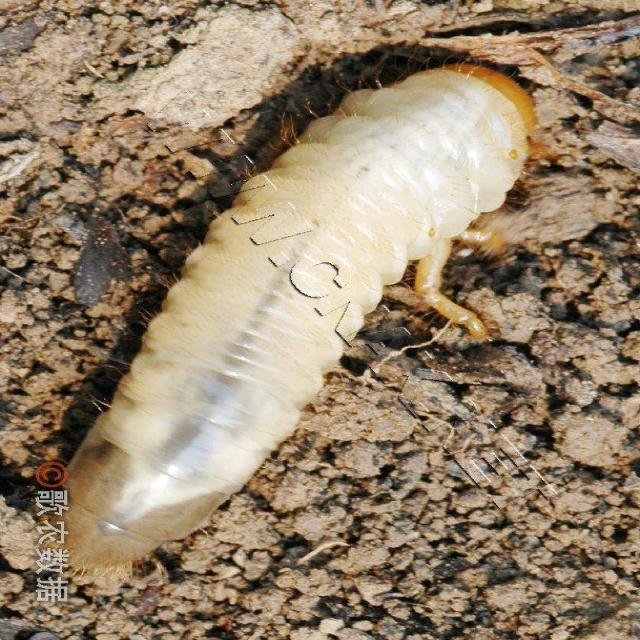grub: (50, 58, 546, 611)
